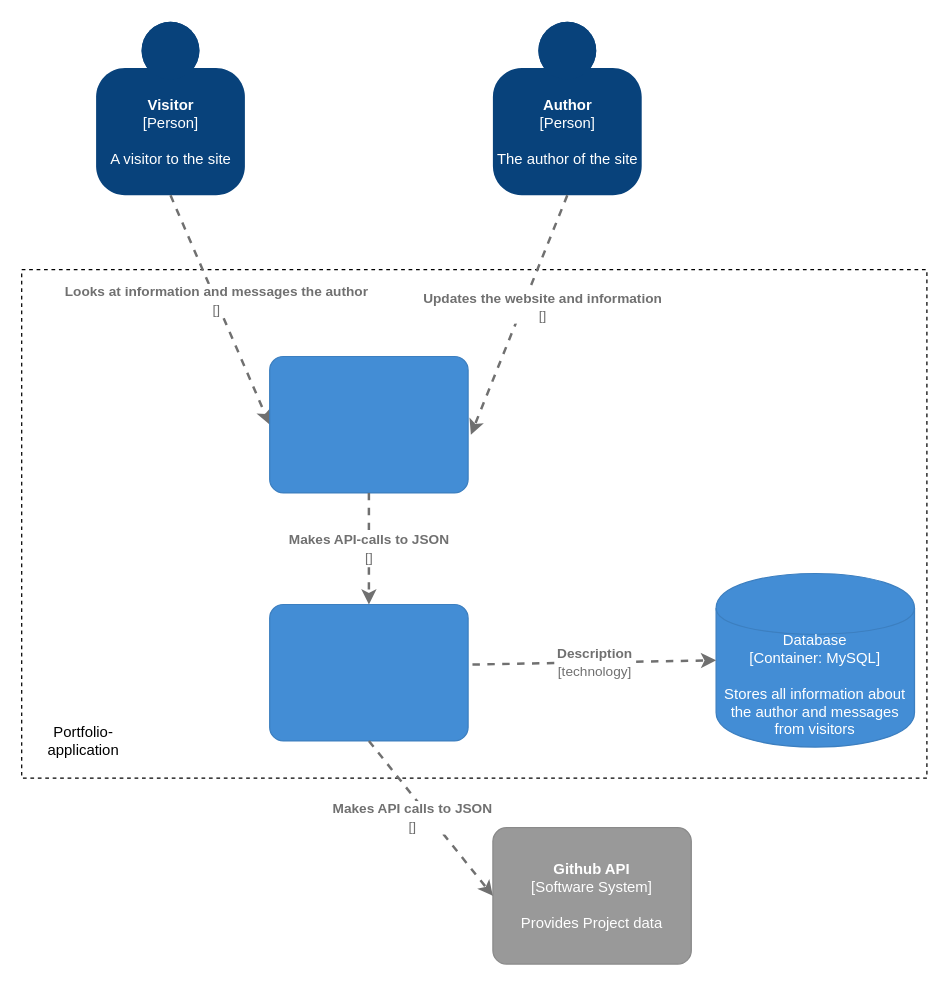
Image size: 949x986. Some labels were removed from this diagram. Here are the shapes that lost their labels. From the top down, the centre of each, then its label:
[368,424]: Website [Component: Vue.JS] Shows information about author and projects
[368,672]: API Application [Component: Quarkus] Provides github functionality
